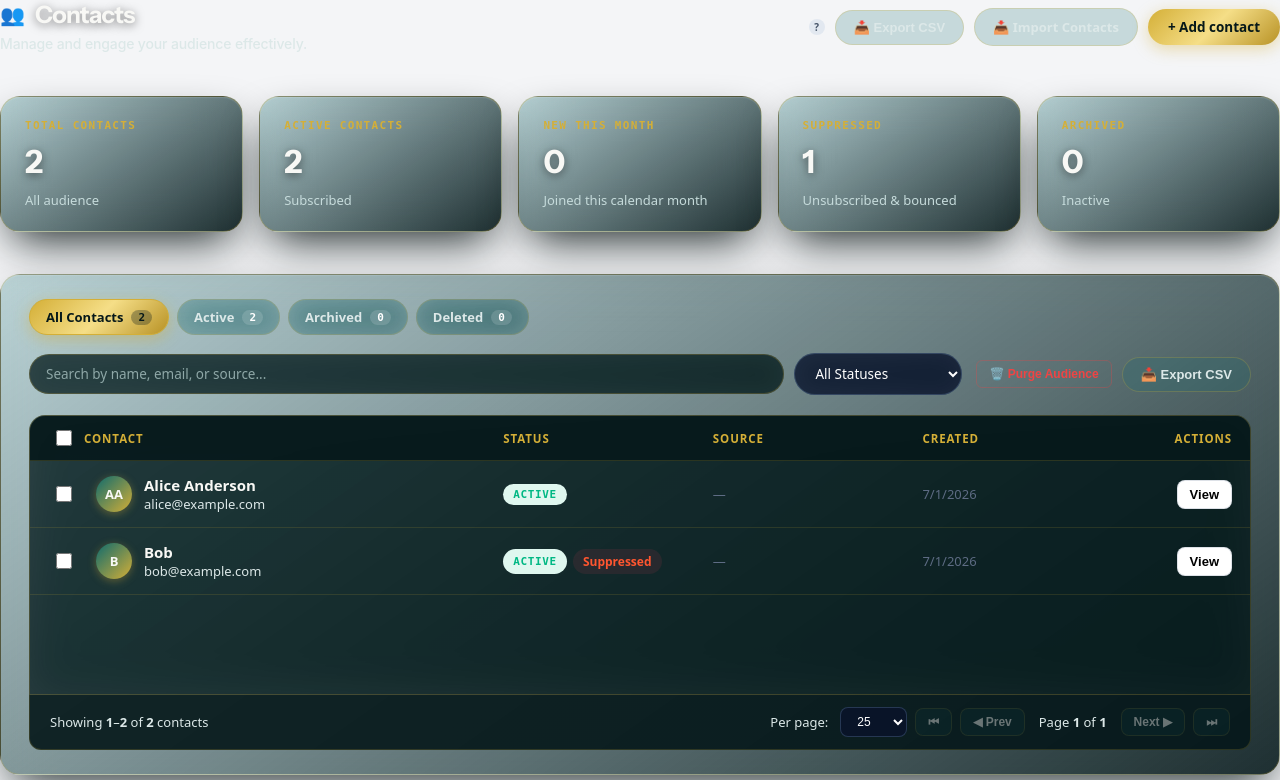
Test: ContactsPage › selects contacts, toggles select all, and displays bulk action bar
This screenshot has width=1280, height=780.
expect the text "Alice Anderson" is shown: met, box [144,475,265,495]
Select Alice
Click the checkbox named "Select Alice Anderson" at {"x": 64, "y": 494}, box [56,486,72,502]
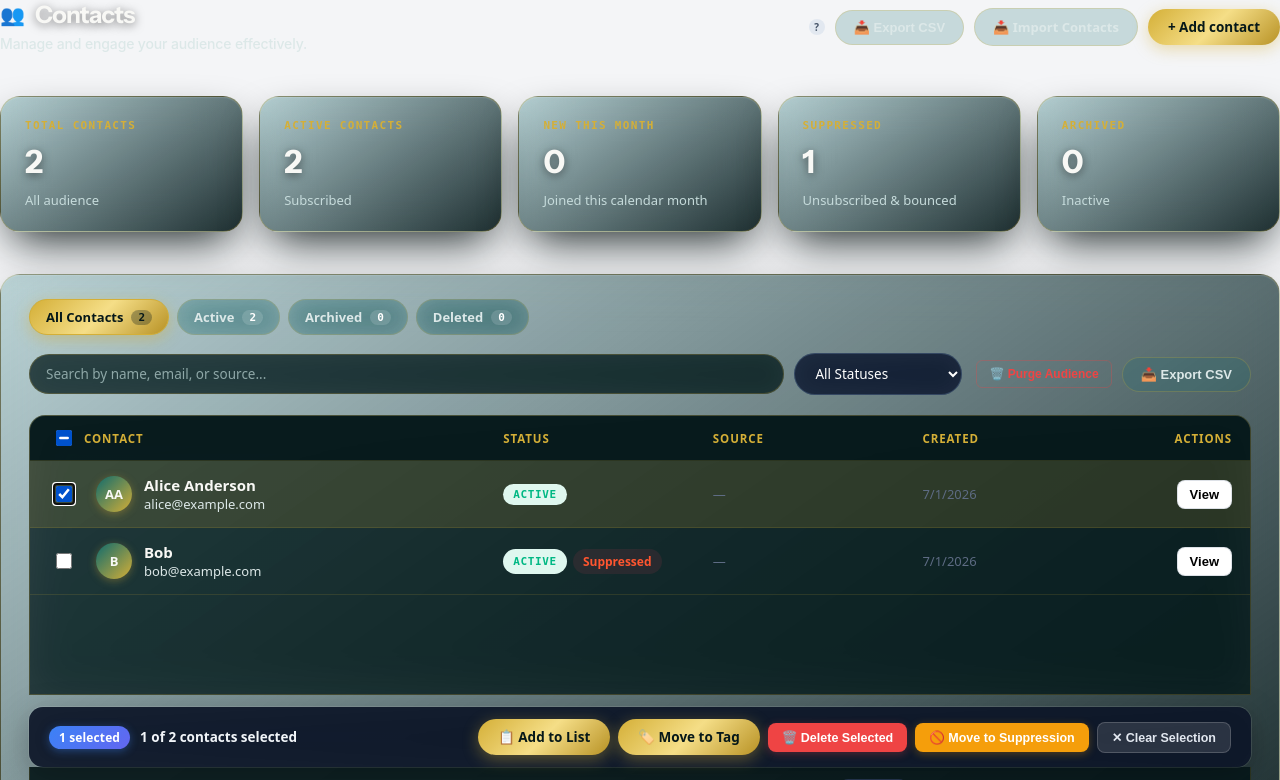
expect the element with test id "bulk-action-bar" is shown: met, box [29,707,1251,767]
expect the text "1 selected" is shown: met, box [49,726,130,749]
Click select all on page
Click the checkbox named "Select all contacts on this page" at {"x": 64, "y": 438}, box [56,430,72,446]
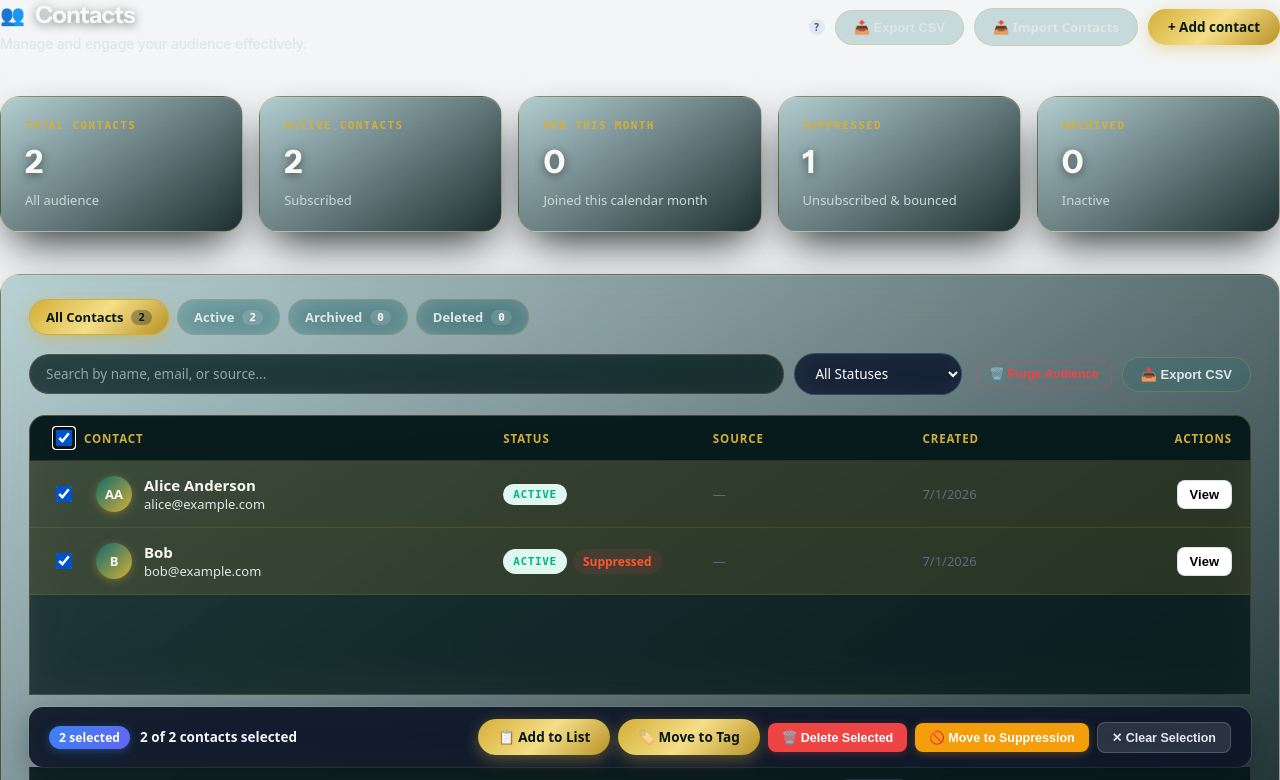
expect the text "2 selected" is shown: met, box [49,726,130,749]
Click clear selection
Click the button "✕ Clear Selection" at {"x": 1164, "y": 737}, box [1097,722,1231,753]
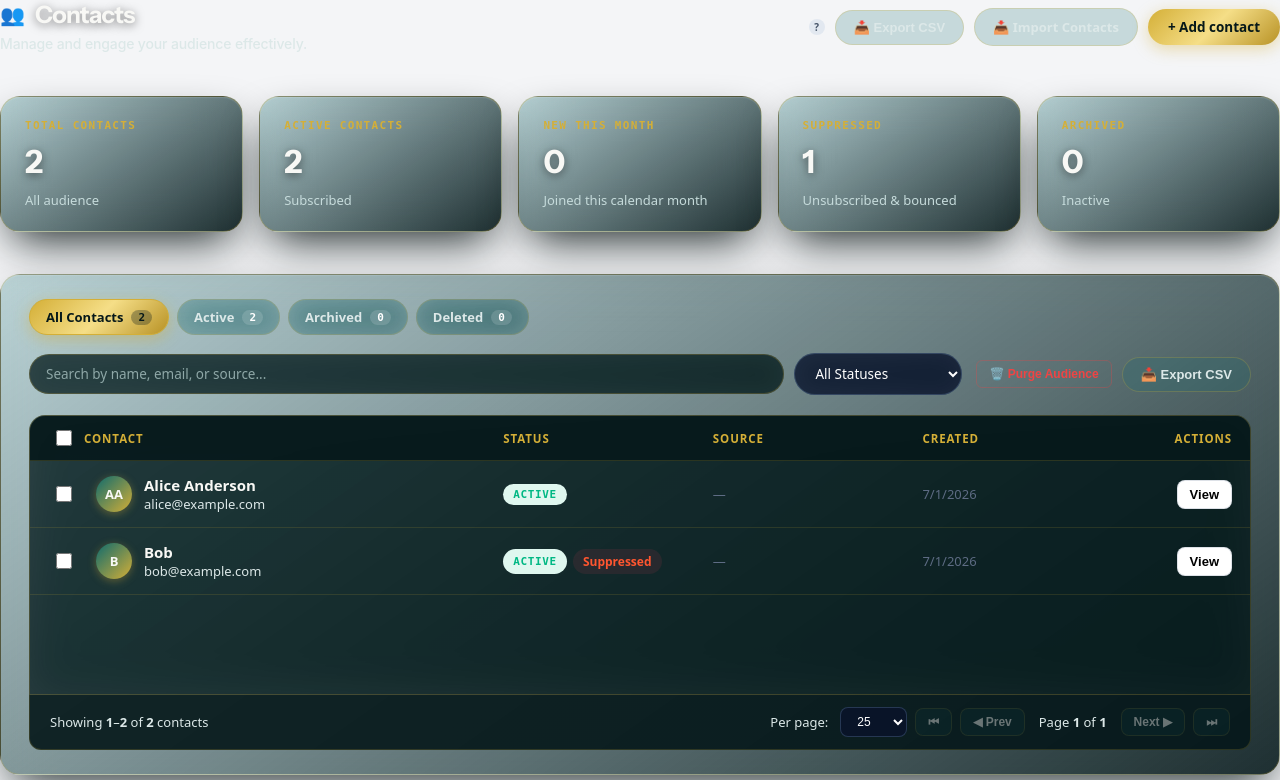
expect the element with test id "bulk-action-bar" is gone: met
